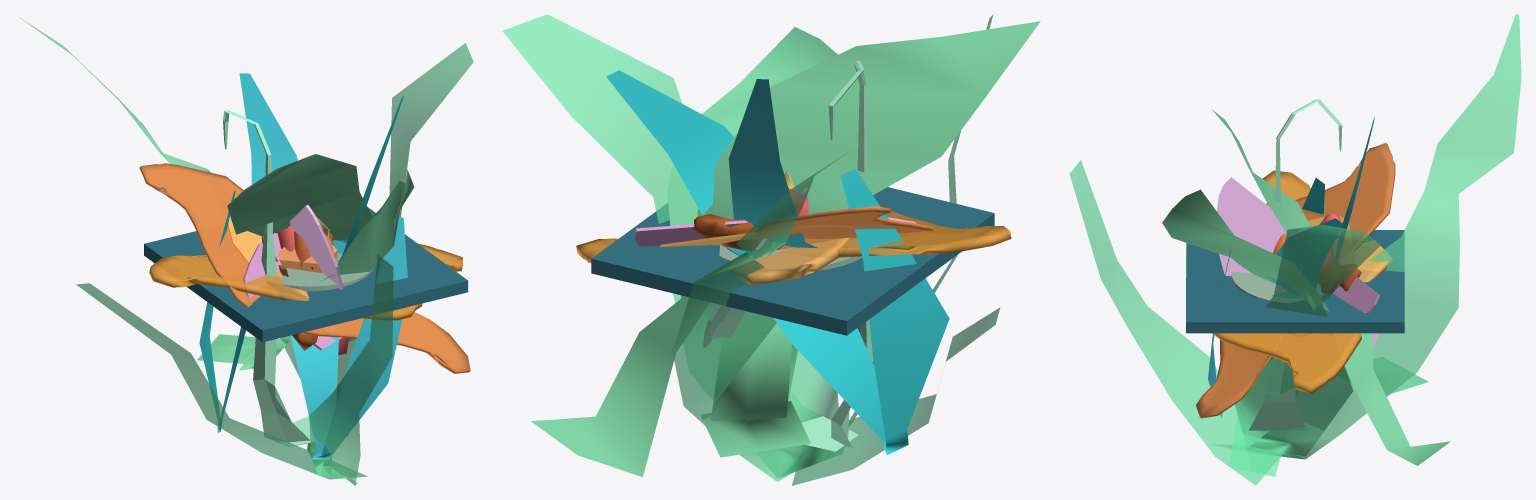
File: Final_optimized_optimized_compressed_basetoolbox.glb
3 renders of one model, left to right at view 1: azimuth 30°, elevation 25°; view 2: azimuth 150°, elevation 25°; view 3: azimuth 270°, elevation 25°, orthographic. The views are drawn at different scales.
Visible parts, largest first — view 1: Plane.014, Plane.007, Plane.012, Plane.062, Plane.036, Plane.035, Cube.032, Plane.010, Plane.055, Plane.008, Plane.006, Circle.003 (+5 smaller); view 2: Plane.036, Plane.014, Plane.008, Plane.035, Plane.062, Plane.007, Plane.010, Plane.039, Cube.032, Plane.012, Plane.011, Plane.054 (+5 smaller); view 3: Plane.014, Plane.062, Plane.012, Plane.035, Plane.010, Plane.036, Plane.006, Cube.032, Plane.008, Plane.045, Plane.011, Circle.003 (+3 smaller).
Part boxes in pixels (x1,y1,x2,y2): Plane.014: (16, 15, 473, 485); Plane.007: (239, 73, 407, 459); Plane.012: (139, 163, 470, 373); Plane.062: (144, 207, 467, 330); Plane.036: (227, 154, 372, 341); Plane.035: (197, 169, 414, 370); Cube.032: (223, 110, 314, 446); Plane.010: (149, 243, 462, 320); Plane.055: (262, 280, 467, 342); Plane.008: (199, 96, 403, 432); Plane.006: (289, 205, 343, 290); Circle.003: (266, 253, 374, 291); Plane.036: (531, 21, 1040, 476); Plane.014: (502, 14, 1000, 485); Plane.008: (606, 70, 949, 455); Plane.035: (667, 27, 837, 457); Plane.062: (591, 187, 993, 320); Plane.007: (728, 79, 874, 364); Plane.010: (576, 210, 1011, 262); Plane.039: (591, 259, 846, 335); Cube.032: (788, 60, 873, 451); Plane.012: (753, 206, 937, 239); Plane.011: (730, 237, 850, 285); Plane.054: (847, 213, 994, 335); Plane.014: (1069, 14, 1521, 485); Plane.062: (1186, 230, 1404, 322); Plane.012: (1196, 143, 1395, 418); Plane.035: (1162, 189, 1428, 395); Plane.010: (1211, 170, 1361, 393); Plane.036: (1212, 109, 1450, 465); Plane.006: (1216, 177, 1379, 364); Cube.032: (1249, 99, 1342, 430); Plane.008: (1267, 178, 1343, 296); Plane.045: (1186, 322, 1404, 333); Plane.011: (1288, 240, 1392, 336); Circle.003: (1231, 272, 1304, 302).
Bounding box in the file's own units: 556298 × 559765 × 601011.
